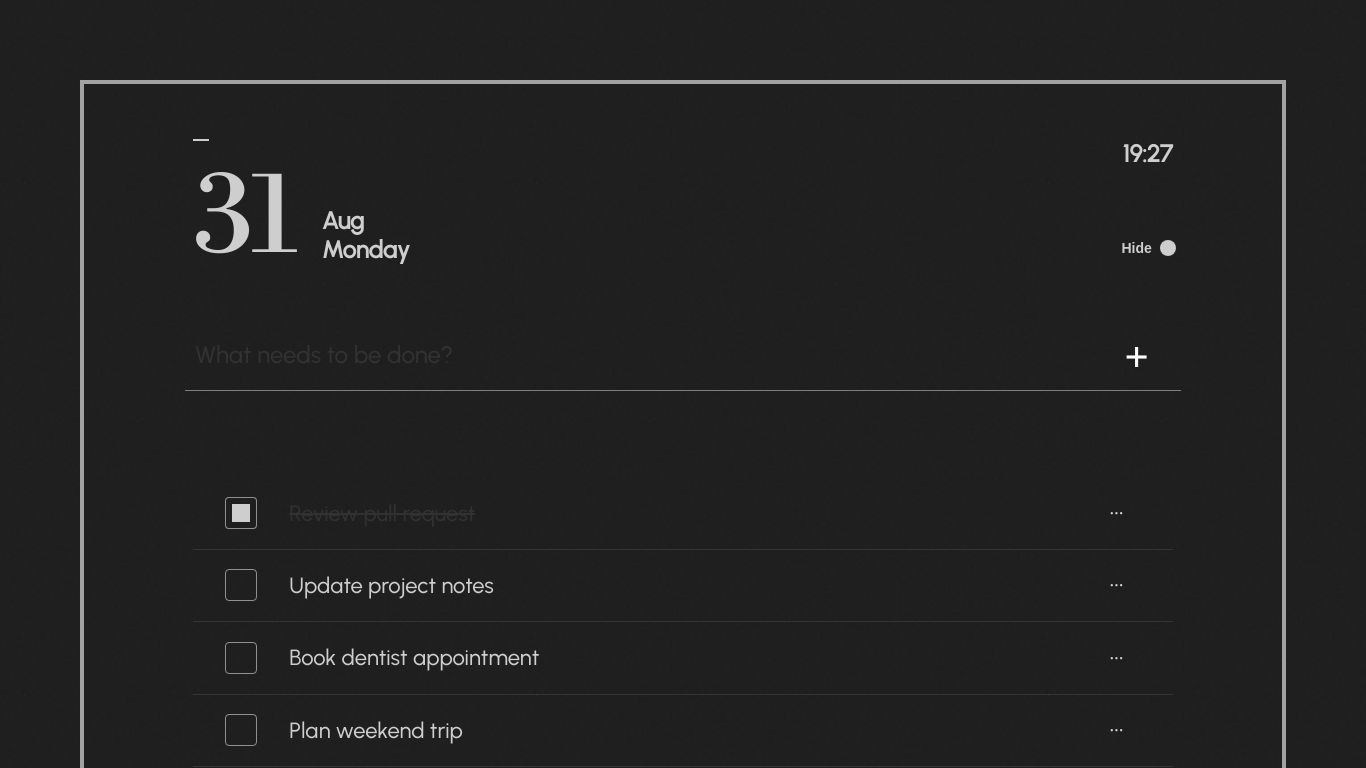
Test: Add a new task by submitting the form
The width and height of the screenshot is (1366, 768).
Type "feed the cat" into the field with placeholder "What needs to be done?" at (631, 355), box left=193, top=318, right=1068, bottom=391
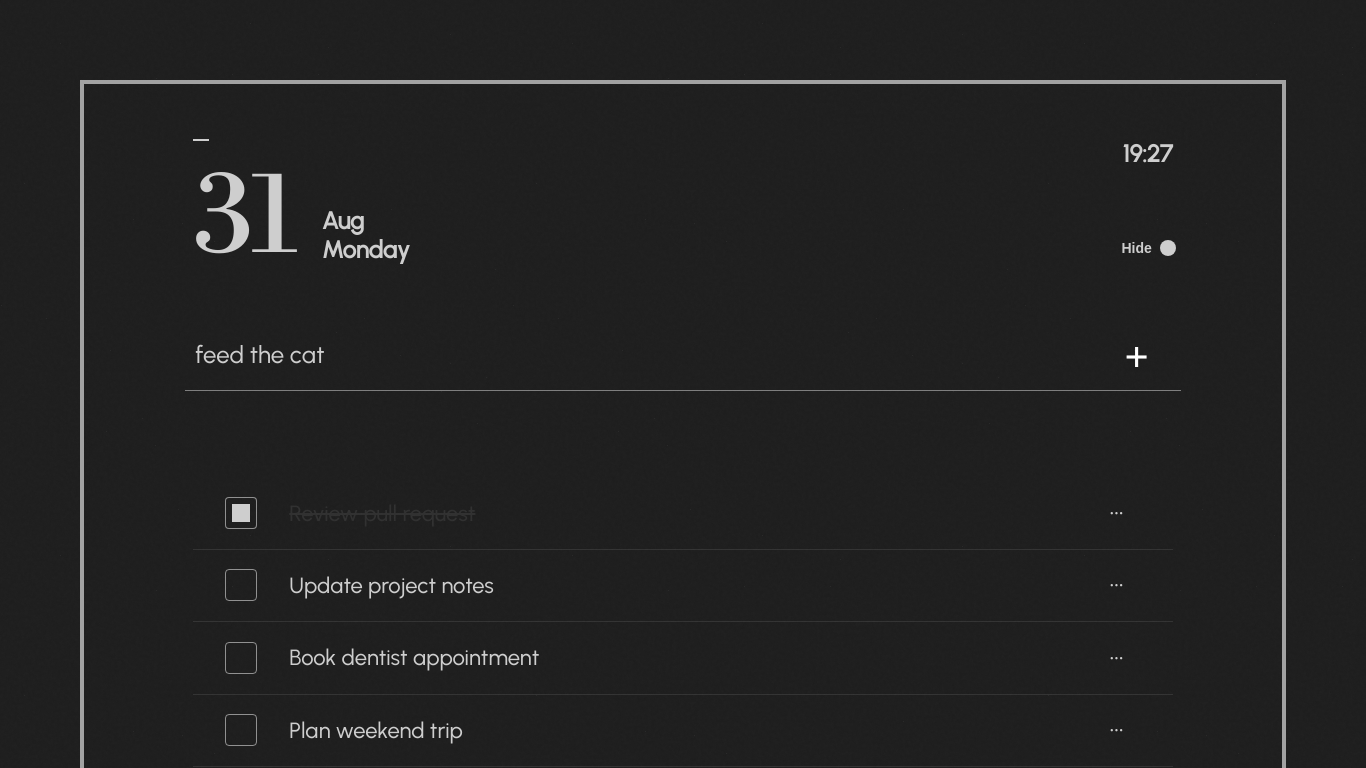
Submit the form named "Add task", box left=193, top=318, right=1173, bottom=391
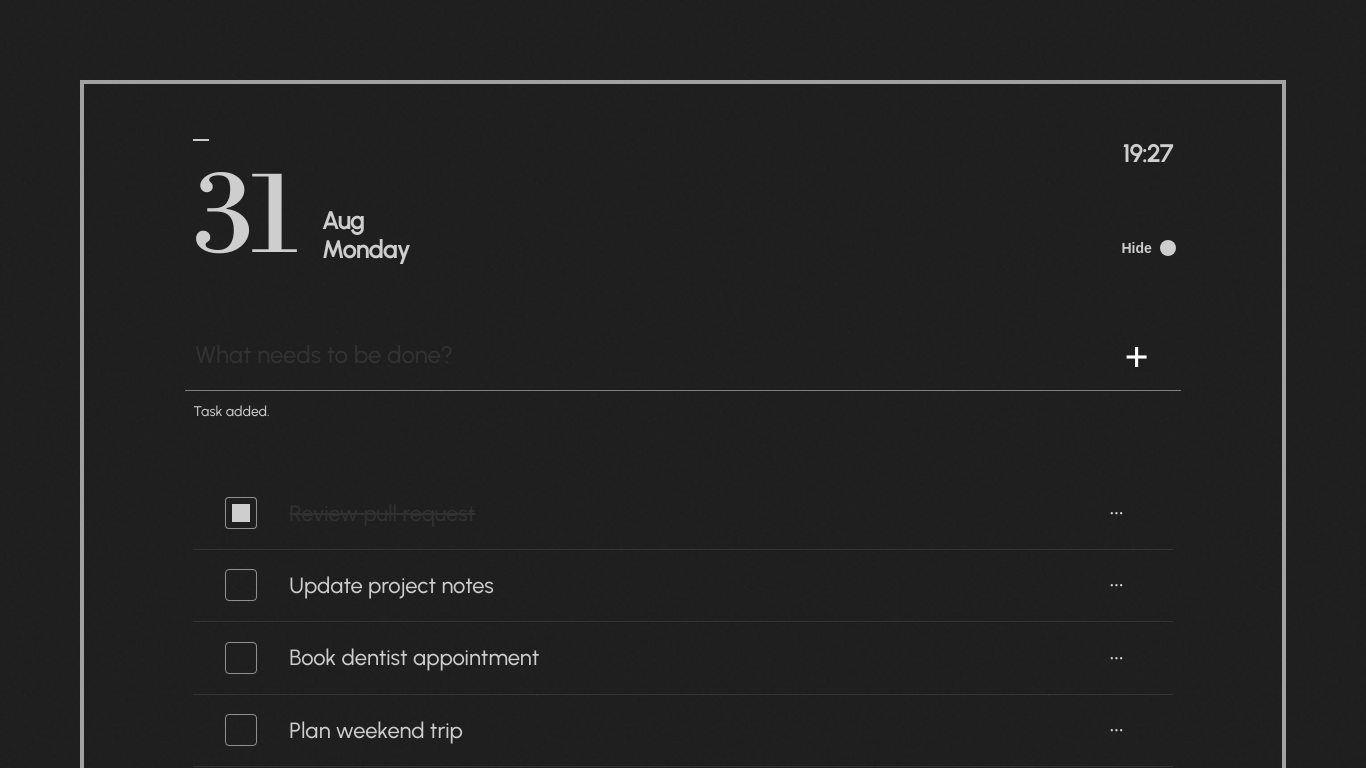
Now the message "Task added." is shown, box left=193, top=403, right=270, bottom=420
